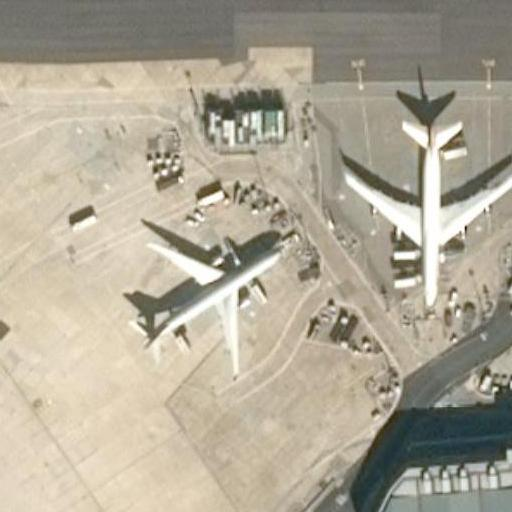Aircraft: (337, 104, 512, 313), (128, 228, 286, 375)
